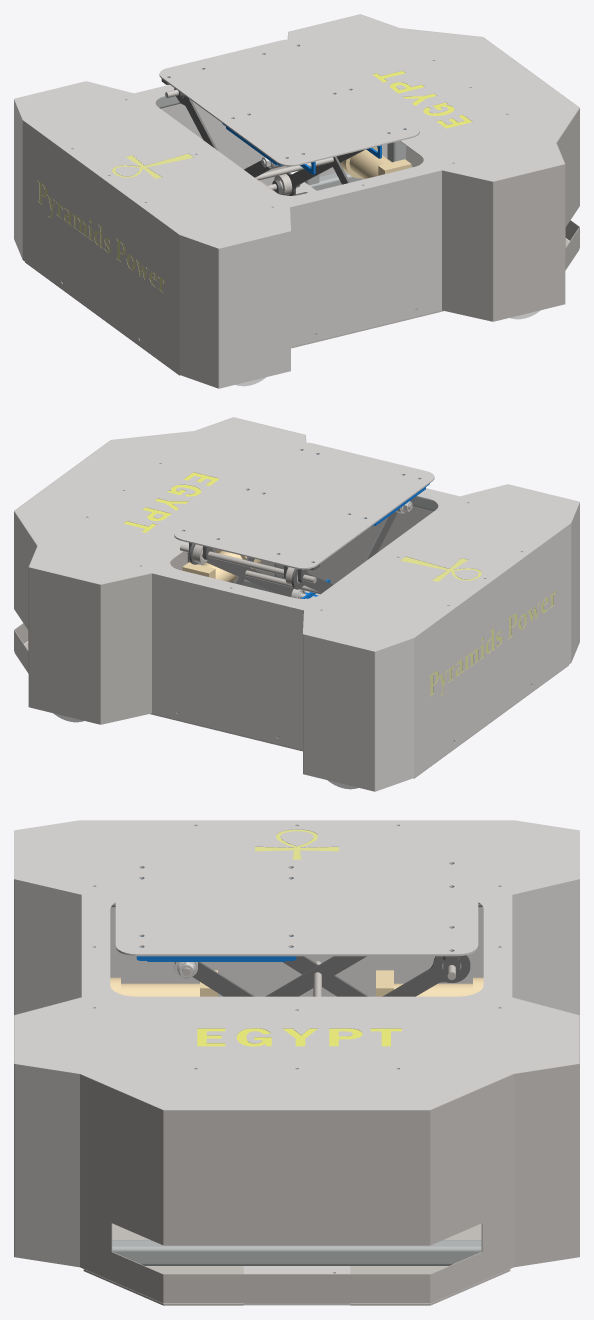
Rendered from R3_BOT.gltf.
3 views of the same model, one above another, from view 1: azimuth 30°, elevation 25°; view 2: azimuth 150°, elevation 25°; view 3: azimuth 270°, elevation 25° (orthographic). The views are drawn at different scales.
Visible parts, largest first — view 1: 3DGeom-1536, 3DGeom-1034, Body_1 (×6), 3DGeom-1535, 3DGeom-1035, 3DGeom-1036; view 2: 3DGeom-1536, 3DGeom-1034, Body_1 (×6), 3DGeom-1535, 3DGeom-1035, 3DGeom-1036; view 3: Body_1 (×11), 3DGeom-1034, 3DGeom-1536, Body_2, 3DGeom-1035, 3DGeom-1036.
Boxes of the visible parts, left/top/right/bottom form: 3DGeom-1536: left=14, top=81, right=441, bottom=388; 3DGeom-1034: left=14, top=14, right=578, bottom=248; Body_1 (×6): left=25, top=14, right=579, bottom=375; 3DGeom-1535: left=38, top=181, right=164, bottom=292; 3DGeom-1035: left=372, top=71, right=471, bottom=128; 3DGeom-1036: left=112, top=153, right=193, bottom=178; 3DGeom-1536: left=152, top=484, right=579, bottom=791; 3DGeom-1034: left=15, top=417, right=579, bottom=651; Body_1 (×6): left=14, top=417, right=568, bottom=778; 3DGeom-1535: left=429, top=590, right=556, bottom=696; 3DGeom-1035: left=123, top=472, right=219, bottom=532; 3DGeom-1036: left=400, top=556, right=481, bottom=581; Body_1 (×11): left=14, top=859, right=579, bottom=1305; 3DGeom-1034: left=15, top=820, right=578, bottom=1109; 3DGeom-1536: left=14, top=820, right=579, bottom=1014; Body_2: left=112, top=1240, right=481, bottom=1265; 3DGeom-1035: left=197, top=1028, right=401, bottom=1046; 3DGeom-1036: left=255, top=829, right=338, bottom=859.
Size of the model in its own units: 0.6436 by 0.2537 by 0.5308.
